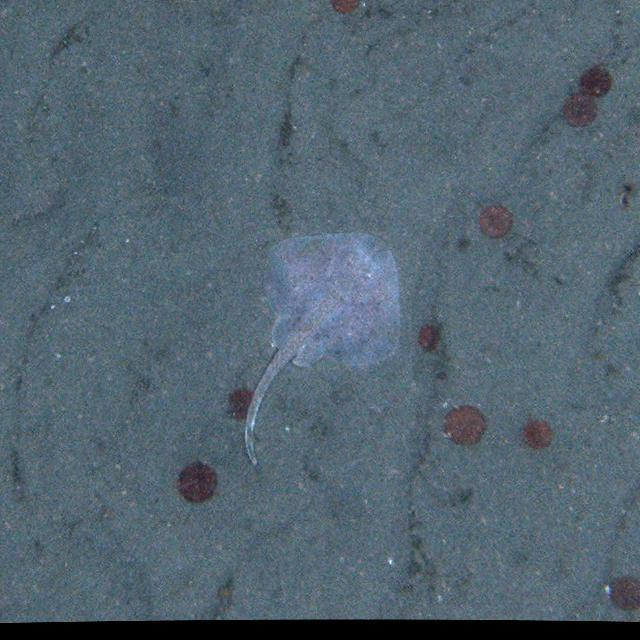skate: (232, 232, 406, 472)
